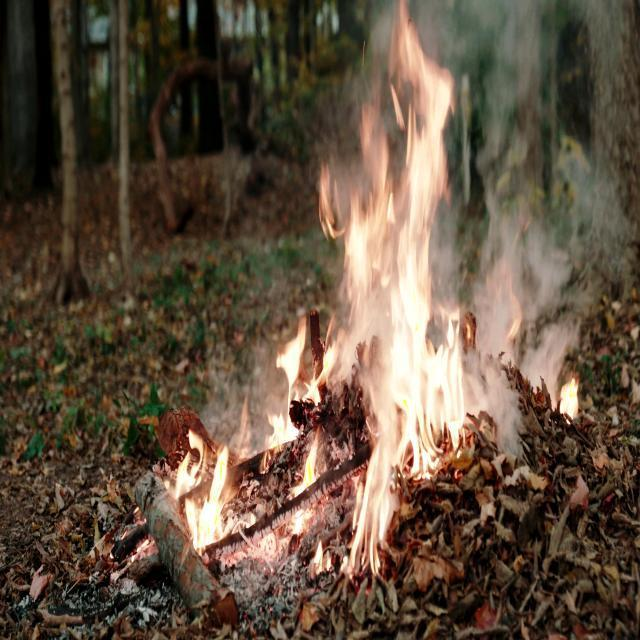Fire: (322, 22, 512, 600), (166, 305, 330, 572), (547, 364, 586, 442)
Smoke: (464, 0, 640, 422)
